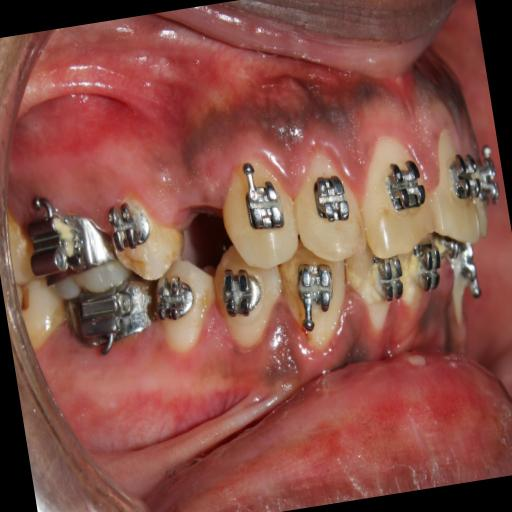correct_brace: (98, 175, 190, 287), (384, 150, 430, 219), (240, 176, 288, 238), (444, 146, 488, 209), (307, 170, 354, 228)
incorrect_brace: (287, 149, 370, 271), (106, 202, 152, 255)
